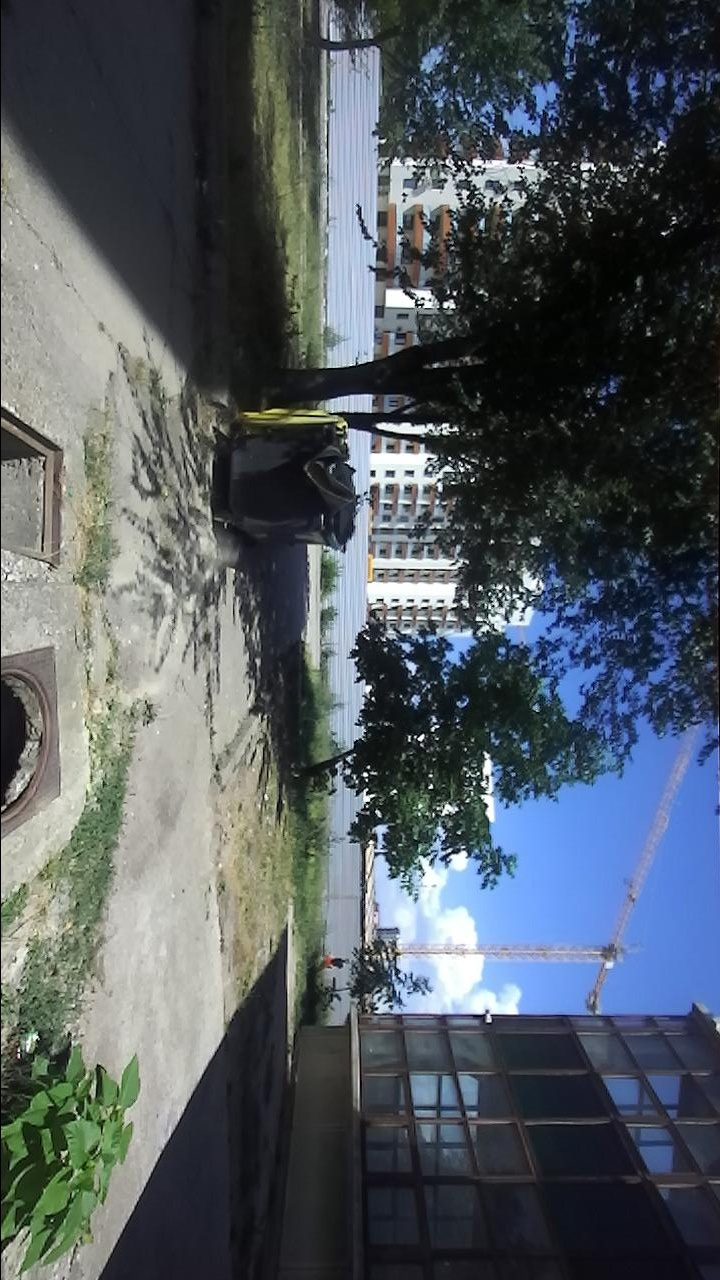drain: (1, 402, 67, 569), (2, 664, 54, 831)
